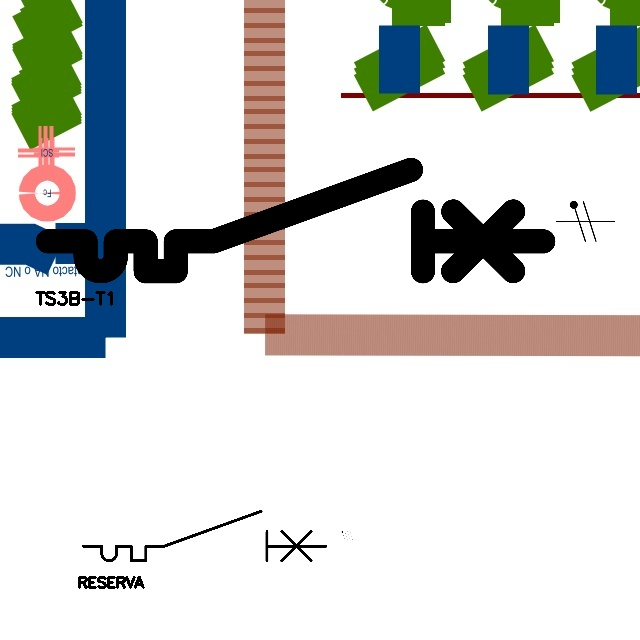interruptor_termomagnetico: (35, 157, 556, 284), (77, 505, 332, 567)
